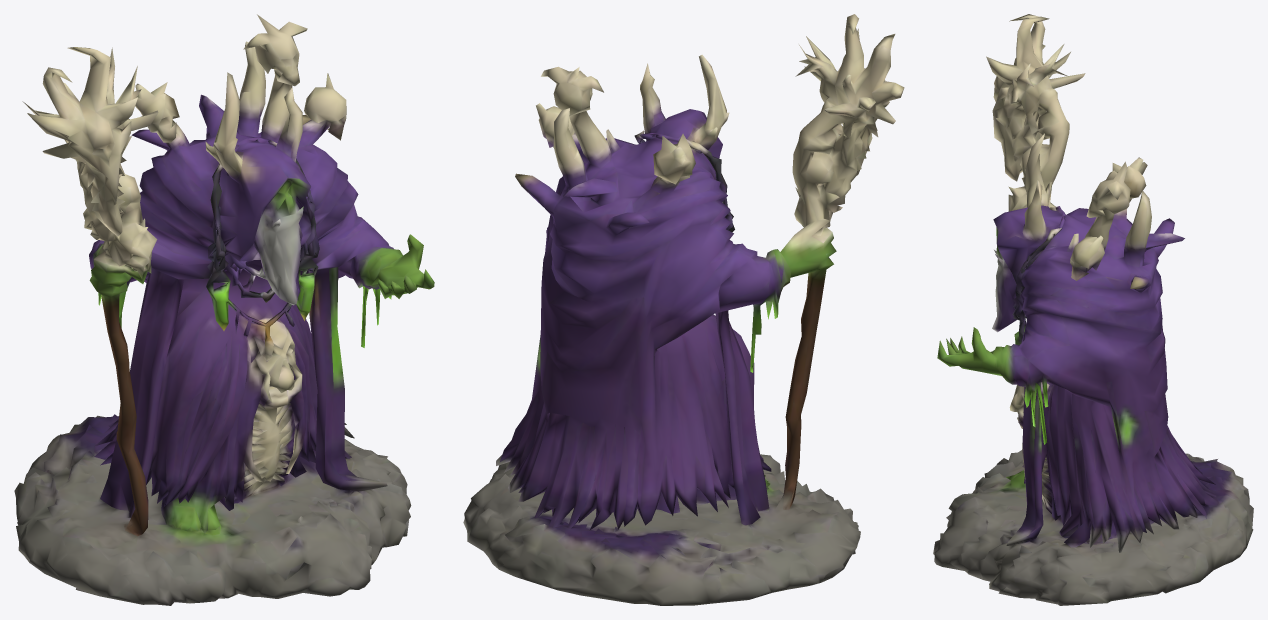
The model's file is guldan_figure.glb.
3 views of the same model, side by side, from view 1: azimuth 30°, elevation 25°; view 2: azimuth 150°, elevation 25°; view 3: azimuth 270°, elevation 25° (orthographic). The views are drawn at different scales.
Visible parts, largest first — view 1: guldan_figure; view 2: guldan_figure; view 3: guldan_figure.
Part boxes in pixels (x1,y1,x2,y2): guldan_figure: [14, 14, 434, 605]; guldan_figure: [463, 14, 904, 605]; guldan_figure: [933, 14, 1253, 605].
Bounding box in the file's own units: 0.1193 × 0.1599 × 0.1014.
Materials: 1 (1 with a texture image).
